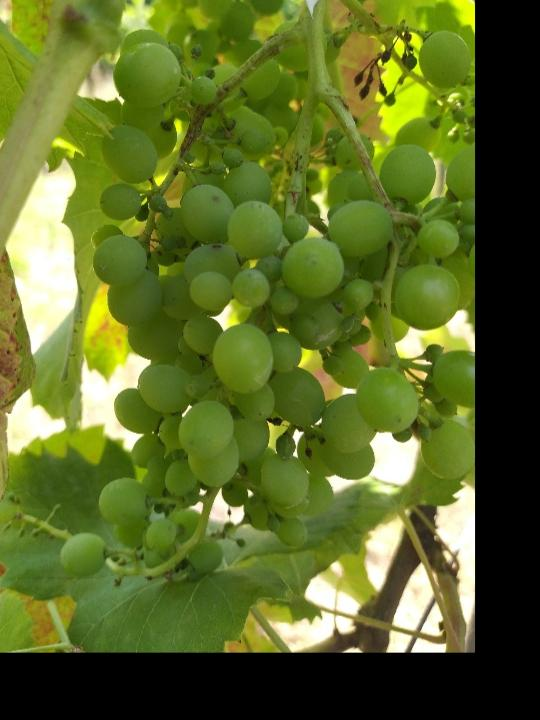grape: (54, 25, 471, 594)
